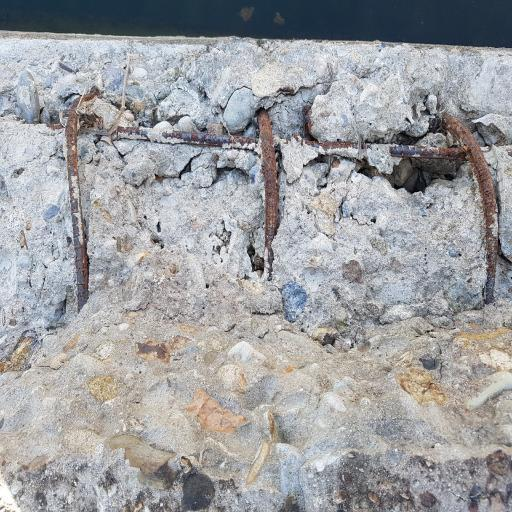exposed_rebar: (65, 87, 288, 310), (291, 108, 497, 302), (257, 108, 278, 280)
